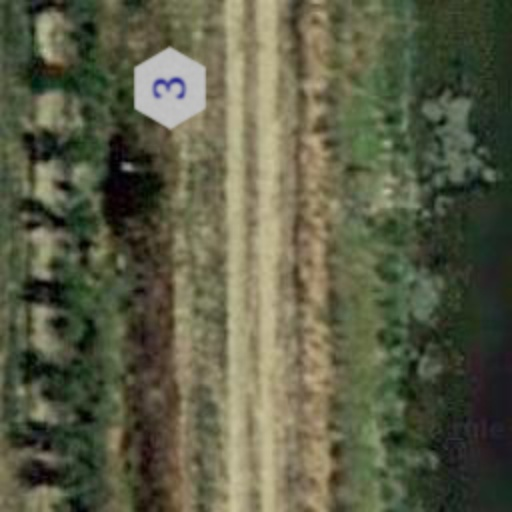hexagon: (128, 46, 212, 130)
